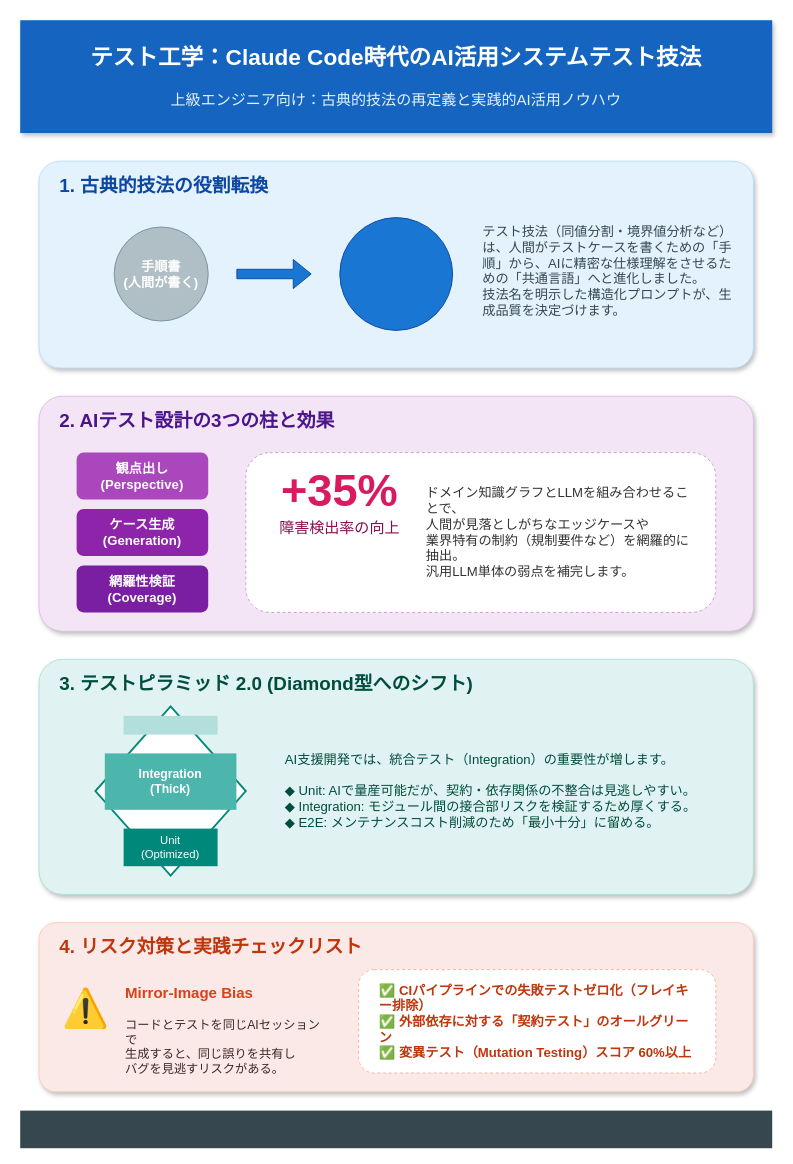
Some shapes in this 793 by 1164 pixel diagram are drawn without their labels. The shapes that lost their labels are listed below. From the top down, each one's centre as x and y in pixels, then its label:
At [396,273]: "論理言語 (AIへの指示)".
At [170,724]: "E2E (Minimal)".
At [396,1129]: "結論: 古典的テスト技法（論理基盤）の習熟度が、AI活用による品質向上効果を決定する。".
